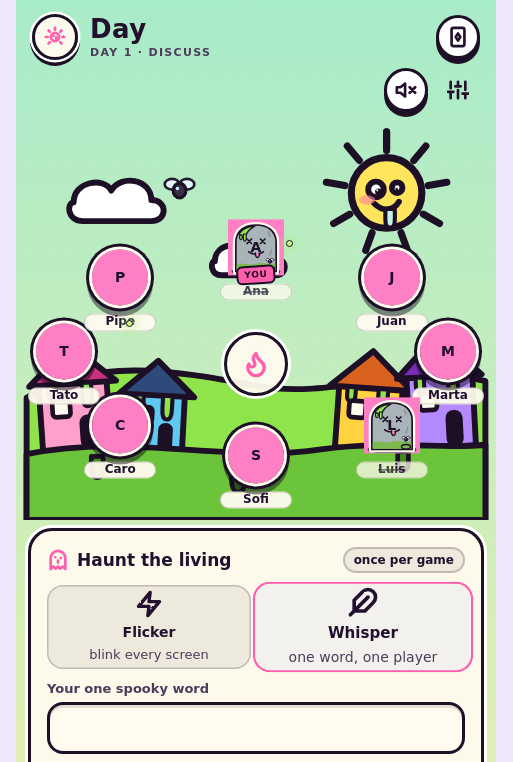
Test: GhostDock › shows a rejected haunt: not-a-ghost
What coordinates should you click on to do the following:
click the button with class "ghost-choice" showing "Flicker blink every screen"
I would click on:
 (149, 627)
Its box is [47, 585, 251, 669].
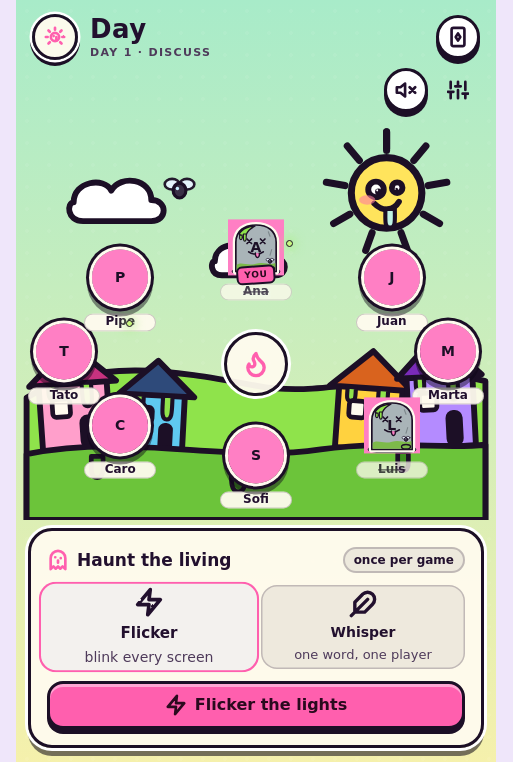
What coordinates should you click on to do the following:
click the button "Flicker the lights"
I would click on:
 (256, 705)
Its box is [47, 681, 465, 729].
(page scrolled)
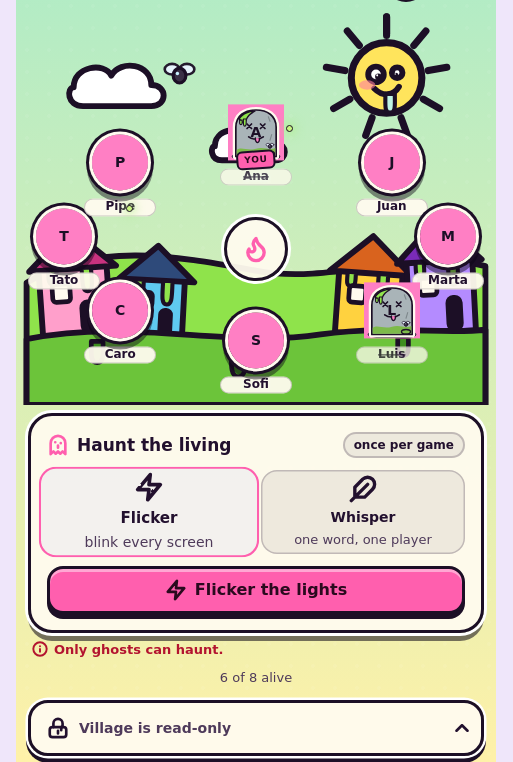
Expected: the message with class "err" reads "Only ghosts can haunt.", [54, 642, 223, 657]
